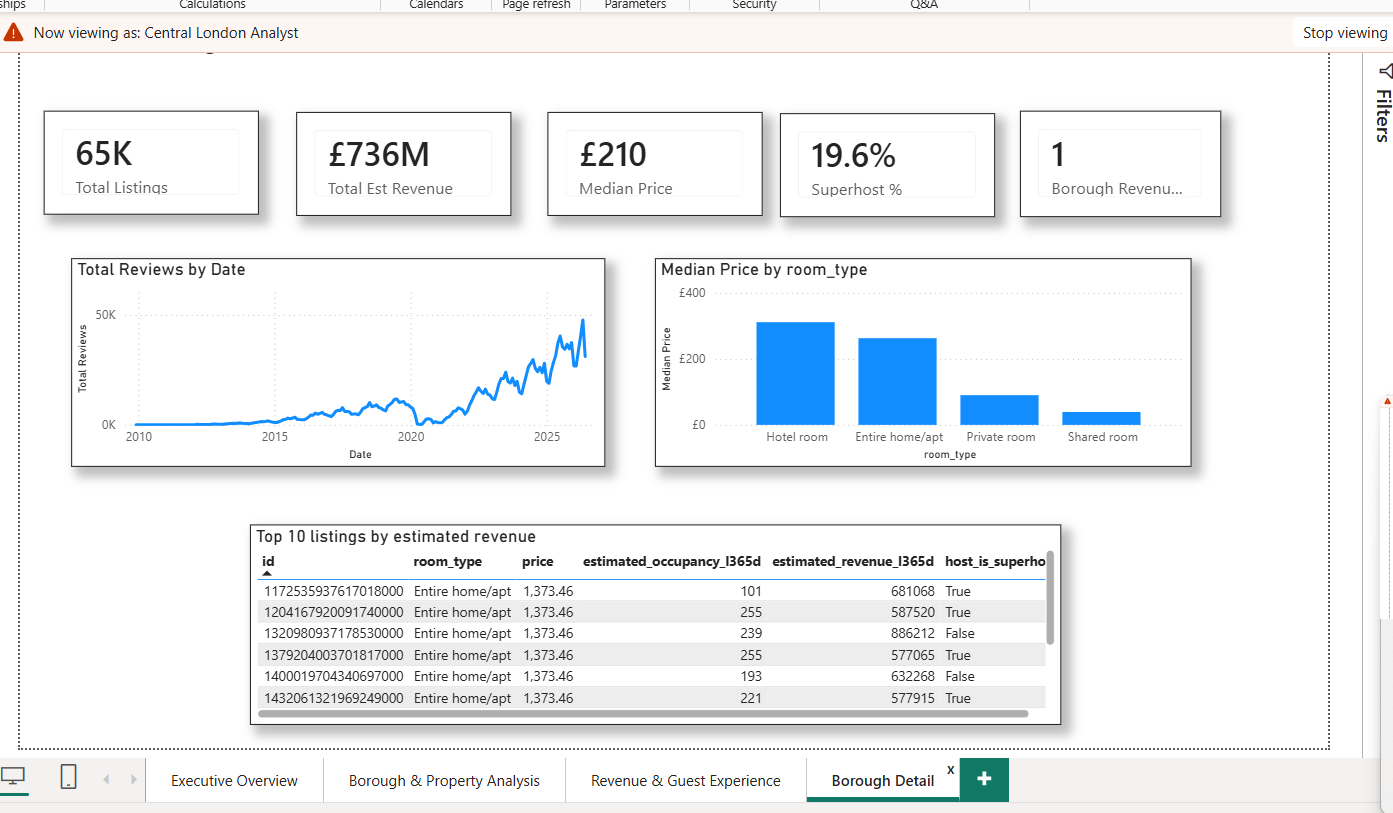

What the dashboard file says about the page in this screenshot:
{"tool":"powerbi","page":{"name":"Borough Detail","canvas":[1280,720],"ordinal":3},"visuals":[{"type":"textbox","box":[122.3,12.2,210.3,50.1],"z":0},{"type":"actionButton","box":[0,0,100,40],"z":1000},{"type":"cardVisual","fields":{"Data":["Measures (2).Total Listings"]},"box":[23.2,96.6,210.3,101.5],"z":2000},{"type":"cardVisual","fields":{"Data":["Measures (2).Total Est Revenue"]},"box":[270.2,97.8,210.3,101.5],"z":3000},{"type":"cardVisual","fields":{"Data":["Measures (2).Median Price"]},"box":[516,97.8,210.3,101.5],"z":4000},{"type":"cardVisual","fields":{"Data":["Measures (2).Superhost %"]},"box":[743.5,99,210.3,101.5],"z":5000},{"type":"lineChart","fields":{"Category":["DimDate.Date"],"Y":["Measures (2).Total Reviews"]},"box":[50.1,240.9,522.1,204.2],"z":6000},{"type":"clusteredColumnChart","fields":{"Category":["listings_clean.room_type"],"Y":["Measures (2).Median Price"]},"box":[621.2,240.9,524.6,204.2],"z":7000},{"type":"cardVisual","title":"Revenue Rank","fields":{"Data":["Measures (2).Borough Revenue Rank"]},"box":[978.3,96.6,196.9,103.9],"z":8000},{"type":"tableEx","title":"Top 10 listings by estimated revenue","fields":{"Values":["listings_clean.id","listings_clean.room_type","listings_clean.price","listings_clean.estimated_occupancy_l365d","listings_clean.estimated_revenue_l365d","listings_clean.host_is_superhost"]},"box":[225,501.4,793.6,195.7],"z":9000}]}

Visuals, with their boxes on the page's 1280x720 design canvas (x1, y1, x2, y2). These are canvas units, not pixel positions in the 1393x813 screenshot, which may show the page scaled, cropped or inside an application window:
textbox: x1=122 y1=12 x2=333 y2=62
actionButton: x1=0 y1=0 x2=100 y2=40
cardVisual - Measures (2).Total Listings: x1=23 y1=97 x2=234 y2=198
cardVisual - Measures (2).Total Est Revenue: x1=270 y1=98 x2=480 y2=199
cardVisual - Measures (2).Median Price: x1=516 y1=98 x2=726 y2=199
cardVisual - Measures (2).Superhost %: x1=744 y1=99 x2=954 y2=200
lineChart - DimDate.Date x Measures (2).Total Reviews: x1=50 y1=241 x2=572 y2=445
clusteredColumnChart - listings_clean.room_type x Measures (2).Median Price: x1=621 y1=241 x2=1146 y2=445
"Revenue Rank" cardVisual: x1=978 y1=97 x2=1175 y2=200
"Top 10 listings by estimated revenue" tableEx: x1=225 y1=501 x2=1019 y2=697
